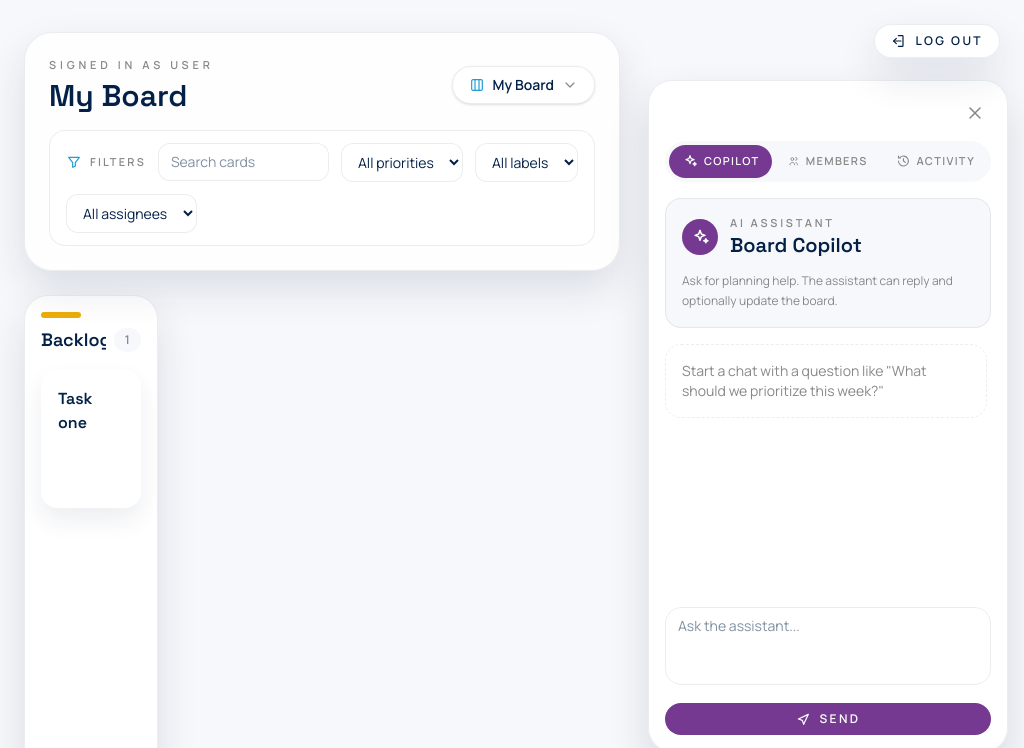
it: Workspace › removes a shared member
The image size is (1024, 748).
Expected: the field showing "My Board" is shown, x1=49 y1=78 x2=410 y2=114
Click the button "Members" at (828,161), box x1=776 y1=145 x2=880 y2=178
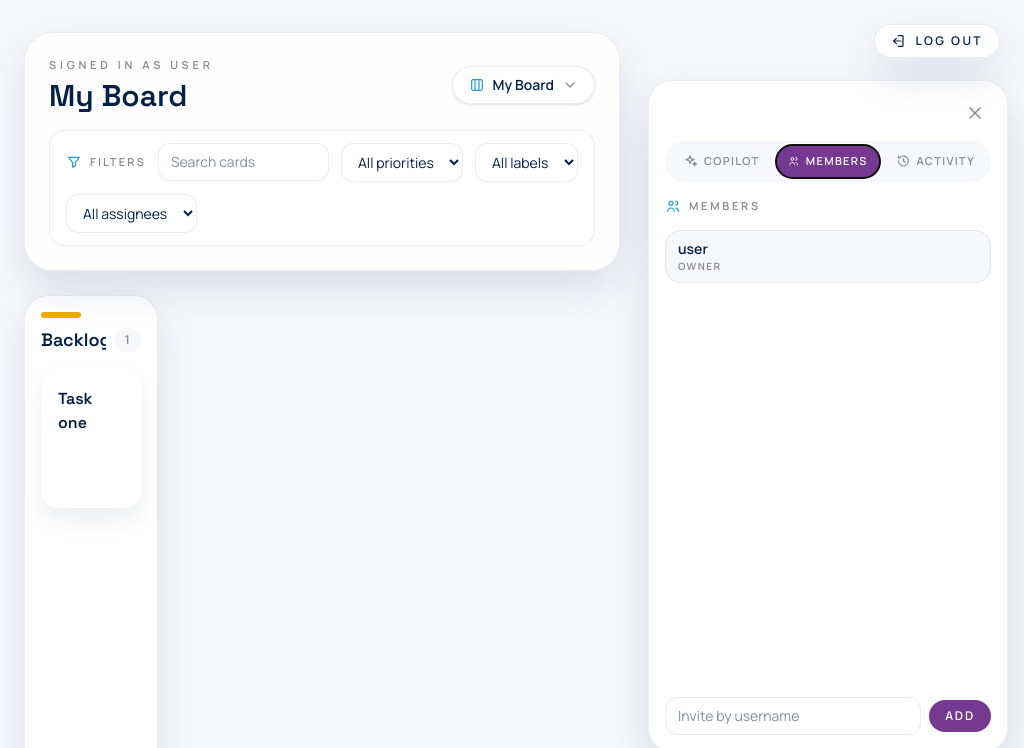
Type "bob" into the field labelled "Invite by username" at (793,716), box x1=665 y1=697 x2=921 y2=735
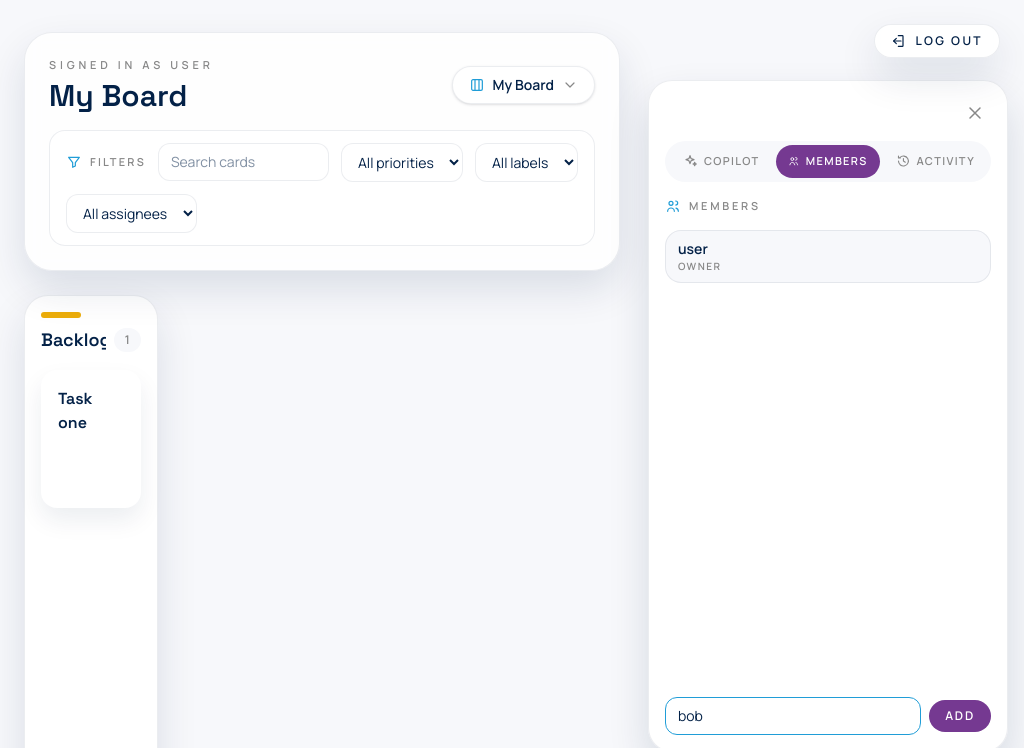
Click the button "Add" at (960,716), box x1=929 y1=700 x2=991 y2=732
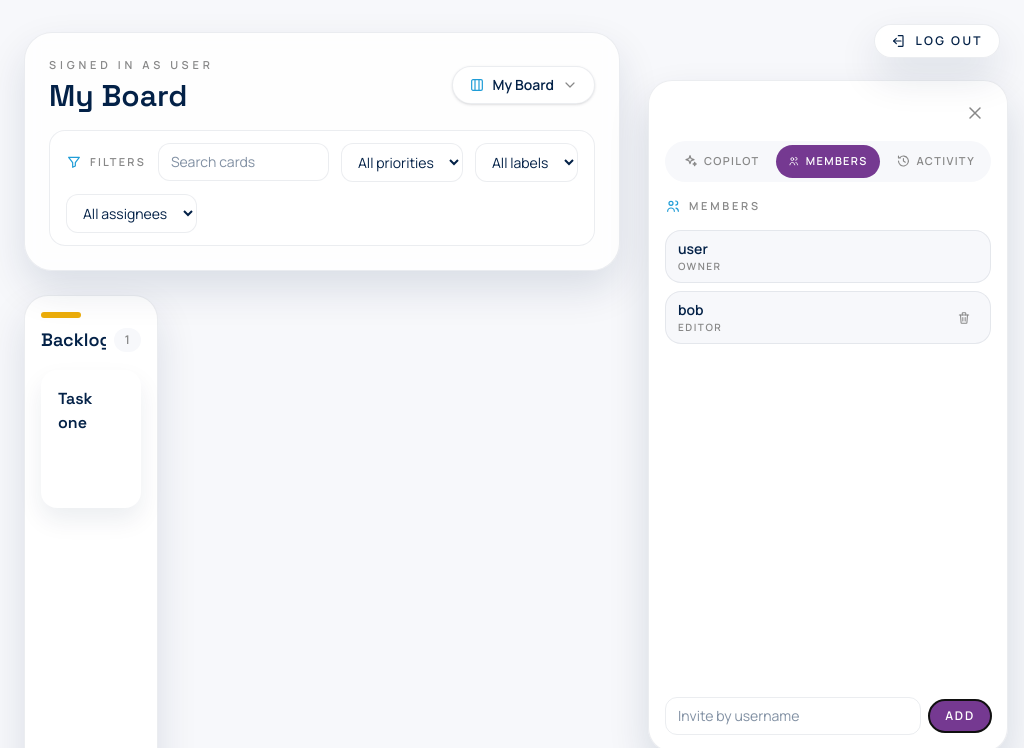
Result: the text "bob" is shown at x1=678 y1=300 x2=704 y2=319
Click the button named "remove bob" at (964,318), box x1=950 y1=304 x2=978 y2=332
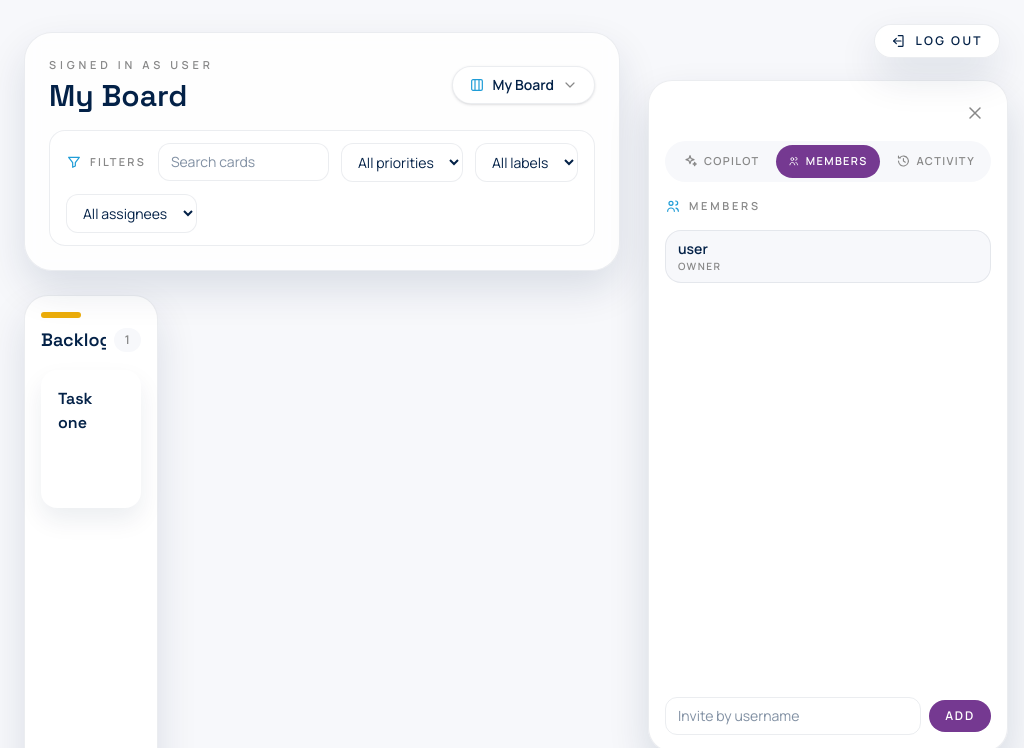
Result: the text "bob" is gone
